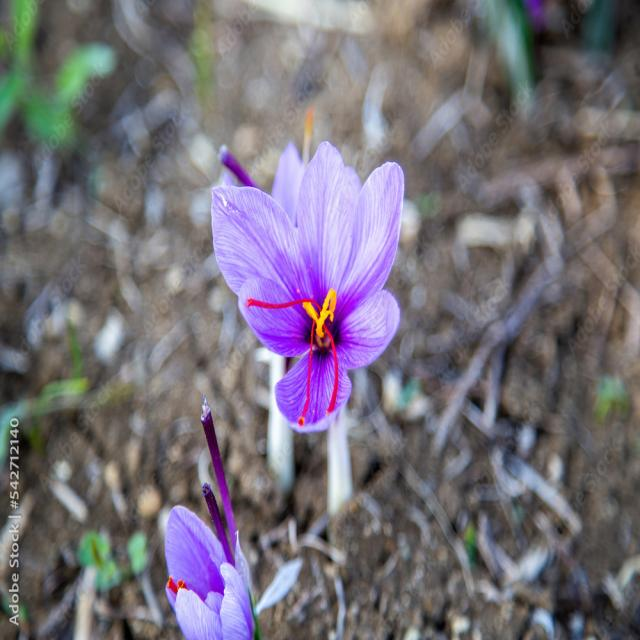saffron open: (211, 142, 404, 433), (165, 506, 254, 639)
